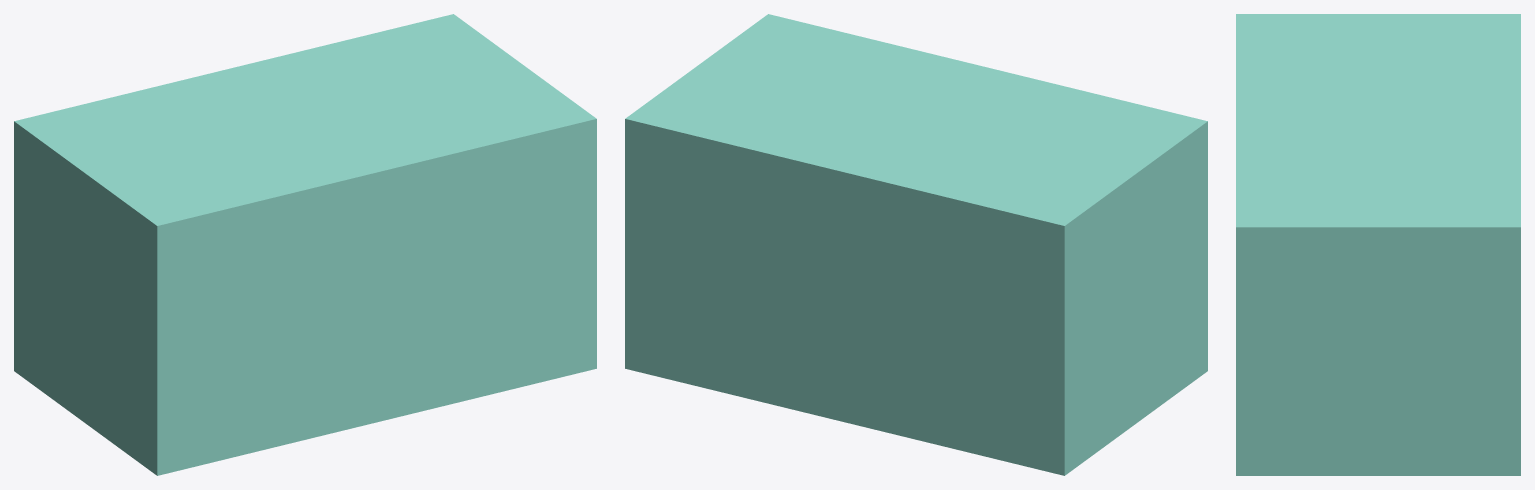
The model's file is dumpster_1.DAE.
The picture shows the model from 3 angles, left to right: view 1: azimuth 30°, elevation 25°; view 2: azimuth 150°, elevation 25°; view 3: azimuth 270°, elevation 25°; orthographic projection.
Parts seen in each view (by area): view 1: bounds; view 2: bounds; view 3: bounds.
Part boxes in pixels (bbox=[...]): bounds: bbox=[14, 14, 596, 475]; bounds: bbox=[625, 14, 1207, 475]; bounds: bbox=[1236, 14, 1520, 475].
Size of the model in its own units: 315 by 178 by 171.
